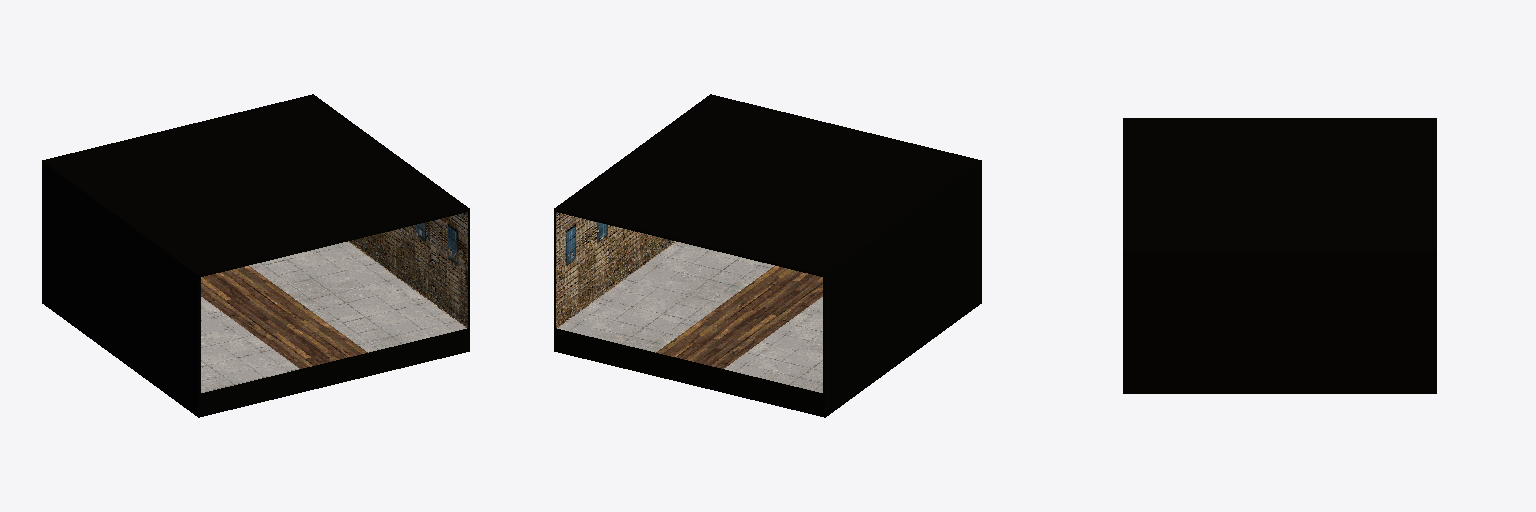
3 renders of one model, left to right at view 1: azimuth 30°, elevation 25°; view 2: azimuth 150°, elevation 25°; view 3: azimuth 270°, elevation 25°, orthographic.
Parts seen in each view (by area): view 1: Front; view 2: Front; view 3: Front.
Boxes of the visible parts, x1,y1,x2,y2 form: Front: [42, 94, 469, 417]; Front: [554, 94, 981, 417]; Front: [1123, 118, 1436, 393].
Size of the model in its own units: 12 by 6 by 12.
1 materials, 1 textured.